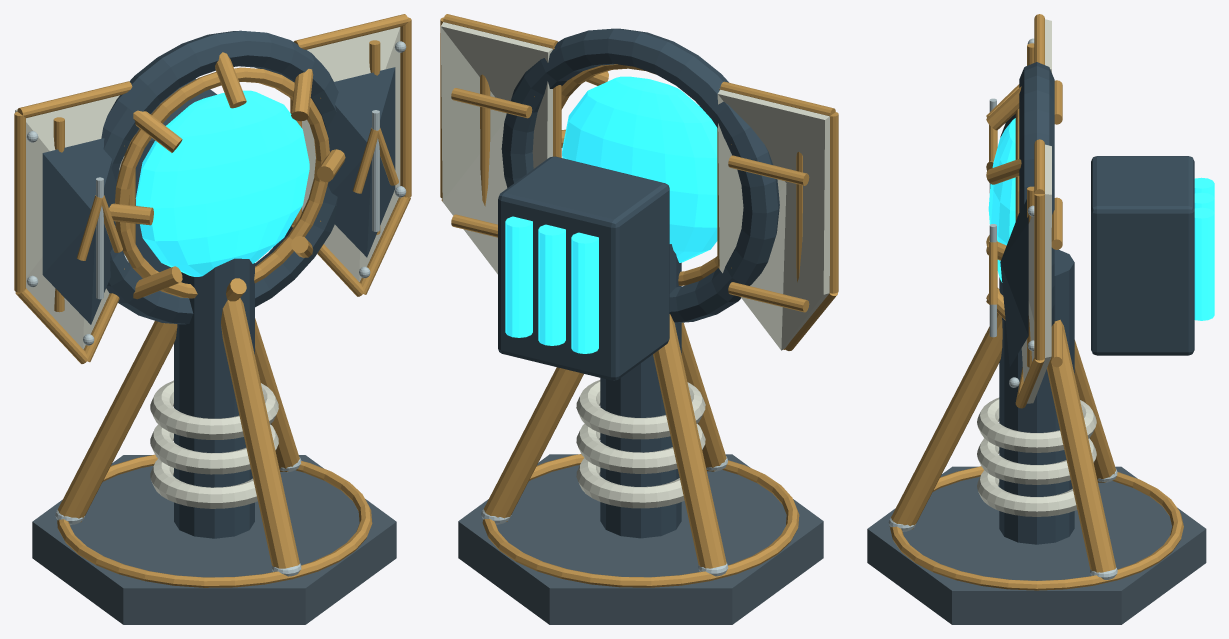
The model's file is aegis-2.glb.
The picture shows the model from 3 angles, left to right: view 1: azimuth 30°, elevation 25°; view 2: azimuth 150°, elevation 25°; view 3: azimuth 270°, elevation 25°; orthographic projection. The views are drawn at different scales.
Parts seen in each view (by area): view 1: Base - Carved dark stone.001, Core - Aegis crystal.001, Base - Brushed electrum.004, Core - Blue tempered steel.004, Core - Brushed electrum.004, Base - Blue tempered steel.004, Panel_L - Blue tempered steel.004, Base - Royal ivory enamel.004, Panel_R - Blue tempered steel.004, Panel_L - Brushed electrum.004, Panel_R - Brushed electrum.004, Panel_L - Royal ivory enamel.004 (+4 smaller); view 2: Base - Carved dark stone.001, Turret - Blue tempered steel.004, Base - Brushed electrum.004, Core - Blue tempered steel.004, Core - Aegis crystal.001, Panel_L - Royal ivory enamel.004, Panel_R - Royal ivory enamel.004, Turret - Aegis crystal.001, Base - Royal ivory enamel.004, Base - Blue tempered steel.004, Panel_L - Brushed electrum.004, Panel_R - Brushed electrum.004 (+1 smaller); view 3: Base - Carved dark stone.001, Turret - Blue tempered steel.004, Base - Brushed electrum.004, Base - Blue tempered steel.004, Base - Royal ivory enamel.004, Panel_R - Brushed electrum.004, Core - Blue tempered steel.004, Panel_R - Blue tempered steel.004, Turret - Aegis crystal.001, Panel_R - Royal ivory enamel.004, Core - Brushed electrum.004, Core - Aegis crystal.001 (+2 smaller).
Part boxes in pixels (<box>): Base - Carved dark stone.001: <box>32,455,396,624</box>; Core - Aegis crystal.001: <box>135,90,309,276</box>; Base - Brushed electrum.004: <box>57,298,372,587</box>; Core - Blue tempered steel.004: <box>101,30,338,324</box>; Core - Brushed electrum.004: <box>109,52,345,301</box>; Base - Blue tempered steel.004: <box>174,258,254,538</box>; Panel_L - Blue tempered steel.004: <box>42,138,119,324</box>; Base - Royal ivory enamel.004: <box>150,380,278,508</box>; Panel_R - Blue tempered steel.004: <box>325,67,395,257</box>; Panel_L - Brushed electrum.004: <box>14,81,135,363</box>; Panel_R - Brushed electrum.004: <box>290,14,411,296</box>; Panel_L - Royal ivory enamel.004: <box>15,95,124,349</box>; Base - Carved dark stone.001: <box>458,454,823,624</box>; Turret - Blue tempered steel.004: <box>498,156,669,380</box>; Base - Brushed electrum.004: <box>482,314,799,587</box>; Core - Blue tempered steel.004: <box>501,28,779,322</box>; Core - Aegis crystal.001: <box>562,76,717,262</box>; Panel_L - Royal ivory enamel.004: <box>717,89,829,350</box>; Panel_R - Royal ivory enamel.004: <box>440,22,552,274</box>; Turret - Aegis crystal.001: <box>505,216,598,353</box>; Base - Royal ivory enamel.004: <box>576,380,705,508</box>; Base - Blue tempered steel.004: <box>600,244,681,538</box>; Panel_L - Brushed electrum.004: <box>717,81,838,350</box>; Panel_R - Brushed electrum.004: <box>440,14,561,237</box>; Base - Carved dark stone.001: <box>867,466,1206,624</box>; Turret - Blue tempered steel.004: <box>1091,156,1194,355</box>; Base - Brushed electrum.004: <box>889,312,1183,590</box>; Base - Blue tempered steel.004: <box>999,249,1074,544</box>; Base - Royal ivory enamel.004: <box>977,397,1096,516</box>; Panel_R - Brushed electrum.004: <box>989,139,1062,408</box>; Core - Blue tempered steel.004: <box>1019,62,1054,326</box>; Panel_R - Blue tempered steel.004: <box>1000,199,1028,366</box>; Turret - Aegis crystal.001: <box>1194,177,1214,320</box>; Panel_R - Royal ivory enamel.004: <box>1021,144,1051,403</box>; Core - Brushed electrum.004: <box>986,84,1021,320</box>; Core - Aegis crystal.001: <box>988,118,1015,282</box>.
Bounding box in the file's own units: 1.81 × 2.29 × 1.48.
